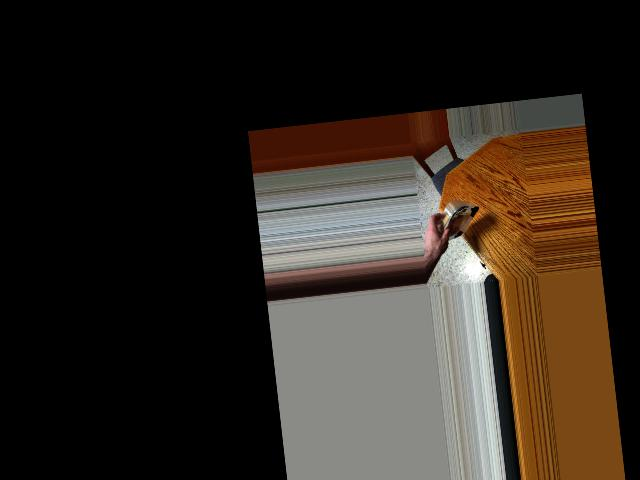cheese: (436, 191, 483, 252)
